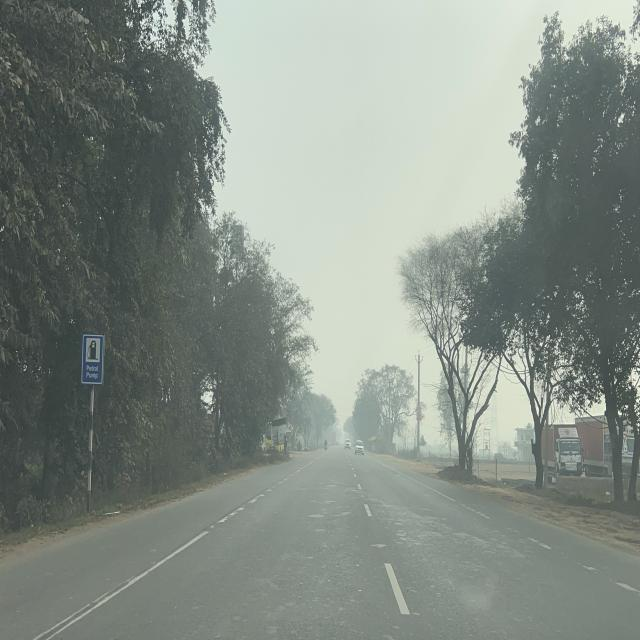INFORMATION: (81, 332, 105, 384)
